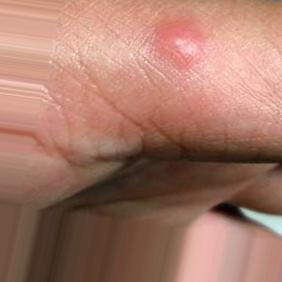Mosquito: (151, 29, 206, 74)
